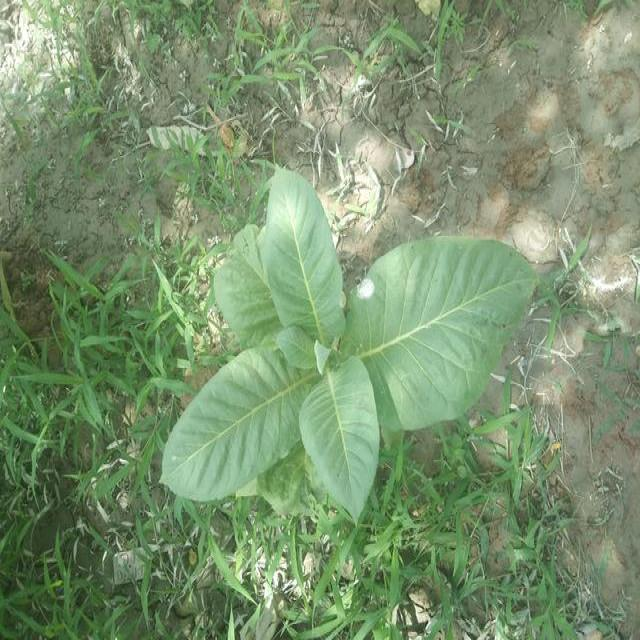crop: (174, 200, 528, 507)
